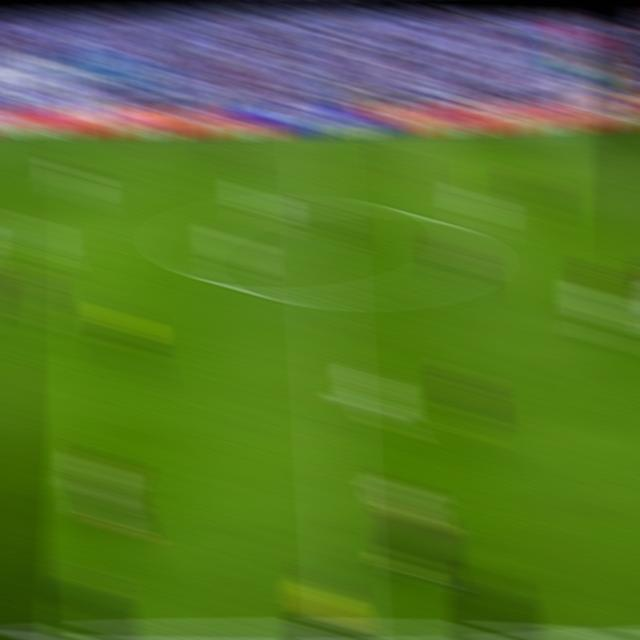halfcircle_bottom: (311, 280, 347, 314)
halfcircle_top: (306, 191, 339, 218)
midline_bottom_intersection: (328, 608, 365, 640)
midline_top_intersection: (303, 127, 334, 148)
